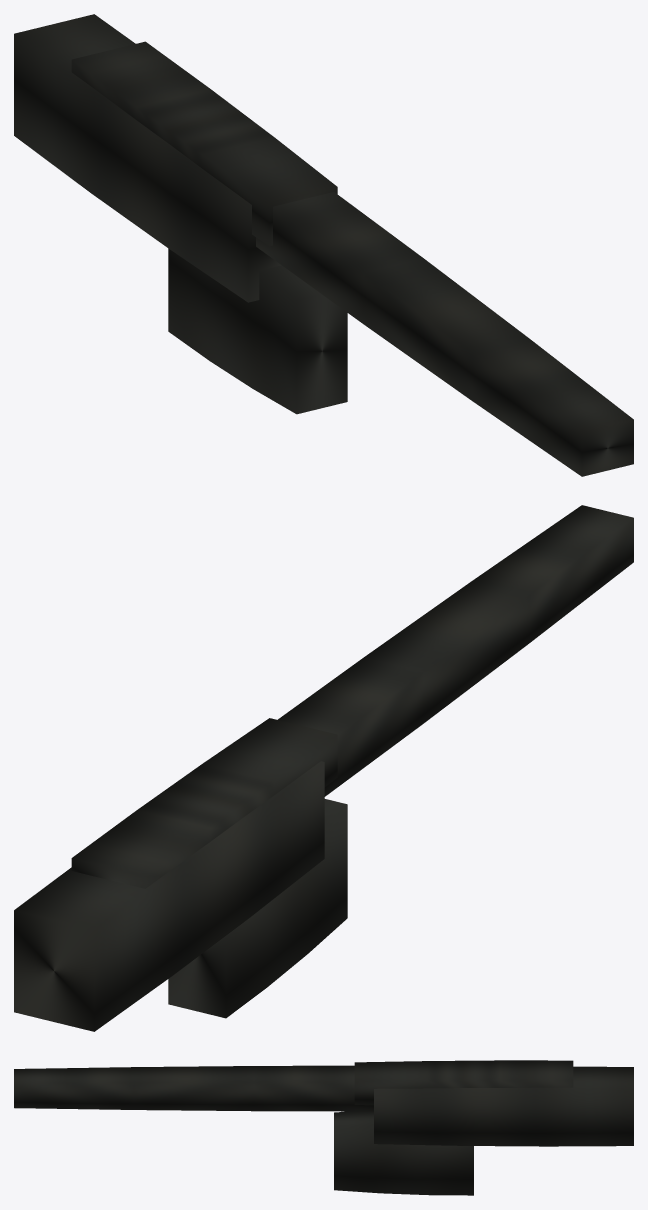
File: wpn_knife_mesh.glb
The picture shows the model from 3 angles, top to bottom: view 1: azimuth 30°, elevation 25°; view 2: azimuth 150°, elevation 25°; view 3: azimuth 270°, elevation 25°; orthographic projection. The views are drawn at different scales.
Visible parts, largest first — view 1: SubMesh_3_BarrelSight, SubMesh_0_Receiver, SubMesh_2_Magazine, SubMesh_1_Action; view 2: SubMesh_0_Receiver, SubMesh_3_BarrelSight, SubMesh_1_Action, SubMesh_2_Magazine; view 3: SubMesh_0_Receiver, SubMesh_3_BarrelSight, SubMesh_2_Magazine, SubMesh_1_Action.
Part boxes in pixels (x1,y1,x2,y2): SubMesh_3_BarrelSight: [256, 192, 633, 476]; SubMesh_0_Receiver: [14, 14, 281, 302]; SubMesh_2_Magazine: [168, 248, 347, 414]; SubMesh_1_Action: [71, 41, 337, 246]; SubMesh_0_Receiver: [14, 761, 324, 1031]; SubMesh_3_BarrelSight: [277, 505, 633, 796]; SubMesh_1_Action: [71, 718, 337, 888]; SubMesh_2_Magazine: [168, 799, 347, 1018]; SubMesh_0_Receiver: [374, 1066, 633, 1146]; SubMesh_3_BarrelSight: [14, 1065, 373, 1111]; SubMesh_2_Magazine: [334, 1111, 473, 1195]; SubMesh_1_Action: [354, 1060, 573, 1105].
Bounding box in the file's own units: 0.0263 × 0.0646 × 0.31.
1 material, 1 textured.
